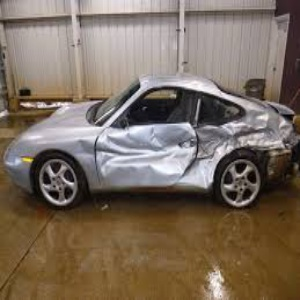door: (97, 129, 215, 186)
